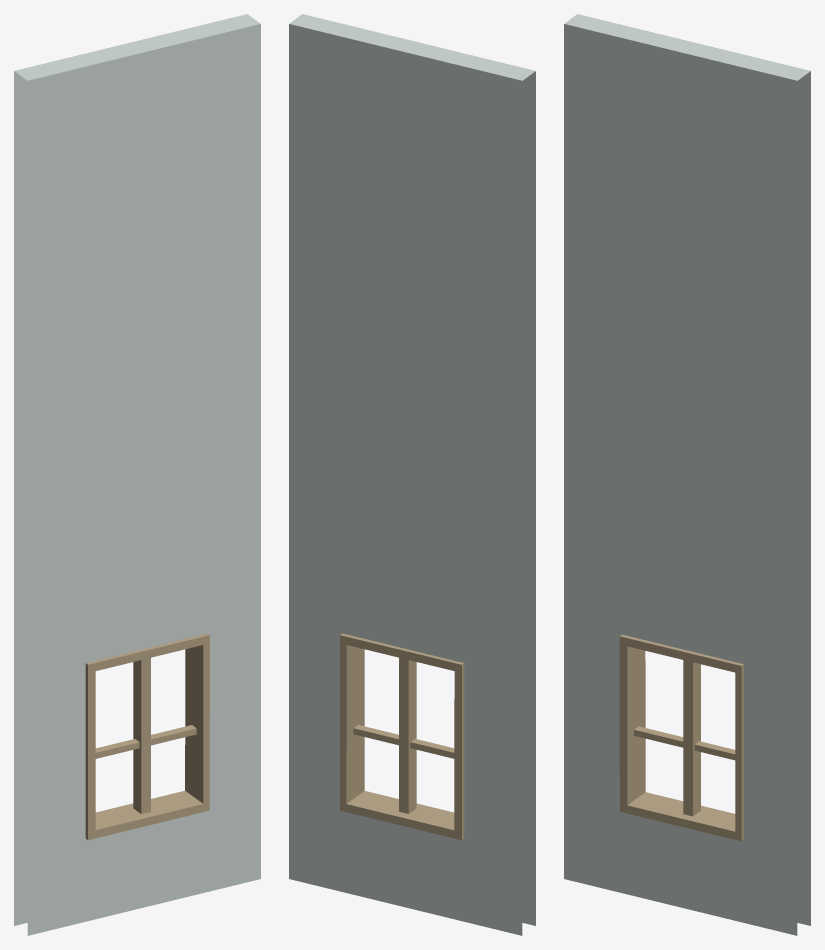
Rendered from SM_Wall_Outer_Window_A_200.fbx.
3 views of the same model, side by side, from view 1: azimuth 30°, elevation 25°; view 2: azimuth 150°, elevation 25°; view 3: azimuth 330°, elevation 25° (orthographic).
Visible parts, largest first — view 1: SM_Wall_Outer_Window_A_200; view 2: SM_Wall_Outer_Window_A_200; view 3: SM_Wall_Outer_Window_A_200.
Boxes of the visible parts, bbox=[...] form: SM_Wall_Outer_Window_A_200: bbox=[14, 14, 260, 935]; SM_Wall_Outer_Window_A_200: bbox=[289, 14, 535, 935]; SM_Wall_Outer_Window_A_200: bbox=[564, 14, 810, 935].
Bounding box in the file's own units: 200 × 700 × 27.27.
